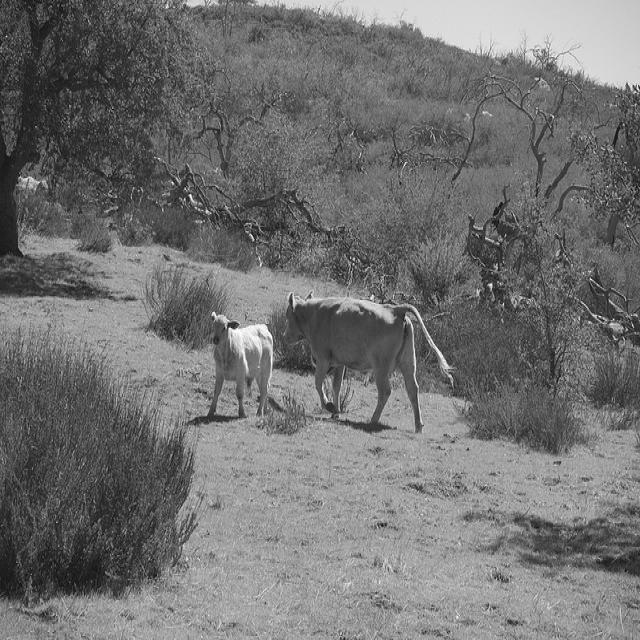cow: (280, 288, 450, 433), (204, 308, 272, 420)
